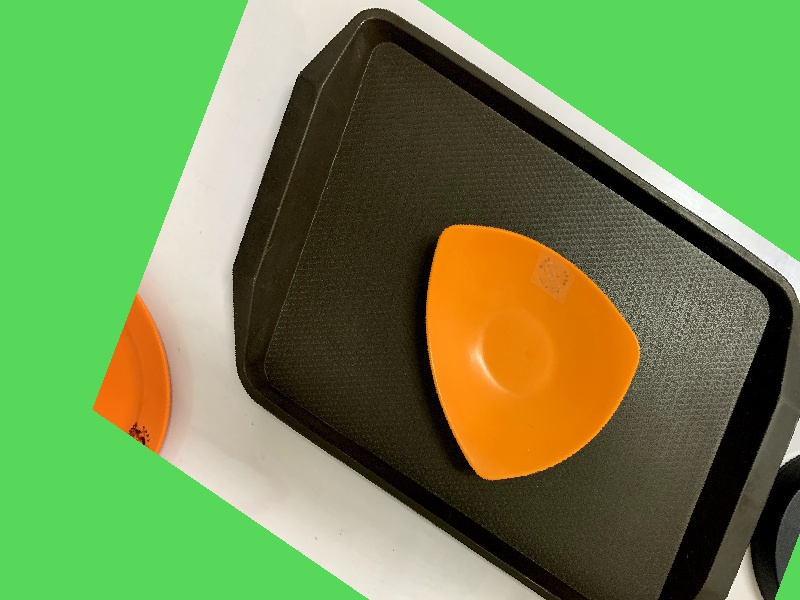dish11: (368, 176, 662, 549)
